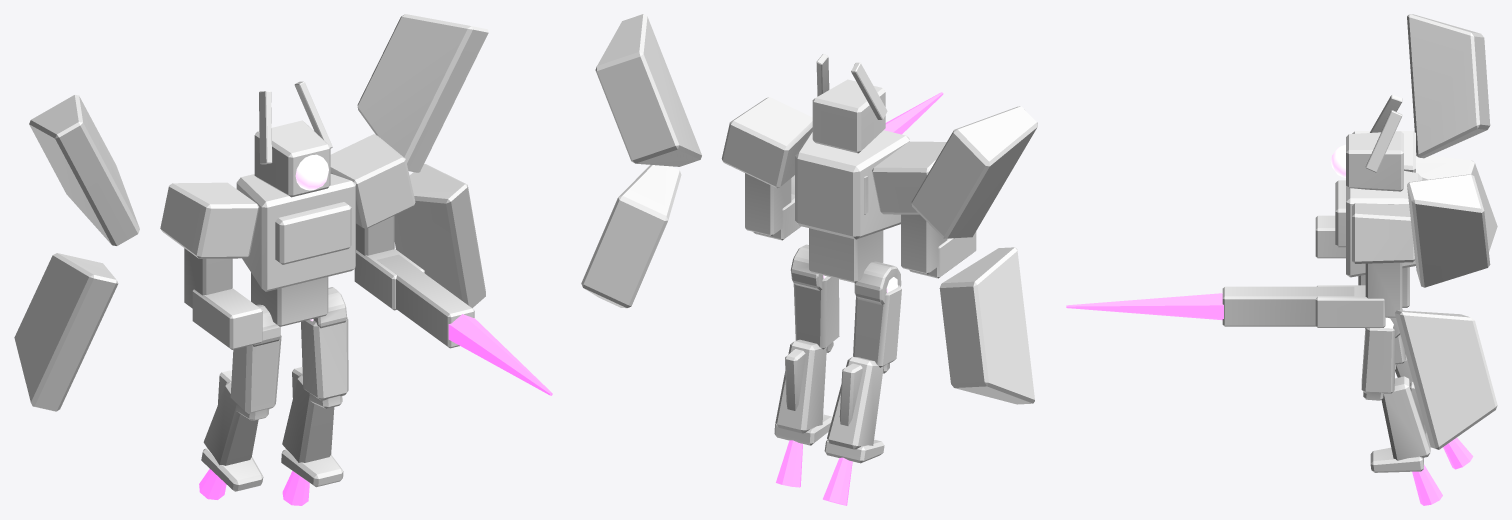
File: e3_wraith_frame.glb
The picture shows the model from 3 angles, left to right: view 1: azimuth 30°, elevation 25°; view 2: azimuth 150°, elevation 25°; view 3: azimuth 270°, elevation 25°; orthographic projection. The views are drawn at different scales.
Parts seen in each view (by area): view 1: FunnelBody_R_0, FunnelBody_L_1, FunnelBody_R_1, FunnelBody_L_0, Torso, Shoulder_L, Shoulder_R, LanceStock, ChestV, Leg_R1_Thigh, Helm, Forearm_L (+16 smaller); view 2: FunnelBody_L_1, FunnelBody_R_0, FunnelBody_L_0, Torso, FunnelBody_R_1, Shoulder_R, Helm, Shoulder_L, Waist, Leg_L1_Thigh, Leg_R1_Greave, Leg_L1_Greave (+15 smaller); view 3: FunnelBody_R_1, FunnelBody_L_0, FunnelBody_R_0, LanceStock, Shoulder_R, Helm, Leg_R1_Greave, LanceBlade, Forearm_R, Leg_R1_Thigh, Torso, FunnelBody_L_1 (+8 smaller).
Boxes of the visible parts, x1,y1,x2,y2 form: FunnelBody_R_0: [357, 14, 488, 172]; FunnelBody_L_1: [14, 253, 118, 411]; FunnelBody_R_1: [394, 164, 485, 308]; FunnelBody_L_0: [29, 95, 139, 246]; Torso: [236, 173, 355, 291]; Shoulder_L: [160, 182, 259, 258]; Shoulder_R: [330, 134, 415, 228]; LanceStock: [376, 254, 474, 348]; ChestV: [275, 202, 351, 264]; Leg_R1_Thigh: [301, 317, 348, 400]; Helm: [254, 120, 330, 197]; Forearm_L: [192, 288, 262, 349]; FunnelBody_L_1: [939, 247, 1034, 404]; FunnelBody_R_0: [595, 14, 701, 166]; FunnelBody_L_0: [911, 106, 1037, 238]; Torso: [795, 129, 909, 239]; FunnelBody_R_1: [581, 165, 681, 308]; Shoulder_R: [721, 97, 812, 188]; Helm: [812, 79, 885, 153]; Shoulder_L: [872, 141, 946, 214]; Waist: [809, 228, 883, 283]; Leg_L1_Thigh: [853, 285, 901, 367]; Leg_R1_Greave: [775, 339, 826, 433]; Leg_L1_Greave: [827, 356, 883, 449]; FunnelBody_R_1: [1395, 310, 1497, 449]; FunnelBody_L_0: [1407, 14, 1490, 158]; FunnelBody_R_0: [1407, 174, 1490, 287]; LanceStock: [1222, 286, 1354, 326]; Shoulder_R: [1352, 203, 1415, 263]; Helm: [1346, 131, 1403, 191]; Leg_R1_Greave: [1381, 376, 1430, 460]; LanceBlade: [1066, 293, 1223, 320]; Forearm_R: [1315, 285, 1385, 327]; Leg_R1_Thigh: [1361, 328, 1395, 393]; Torso: [1346, 171, 1422, 277]; FunnelBody_L_1: [1416, 154, 1497, 251].
Size of the model in its own units: 2.76 by 2.57 by 2.57.
